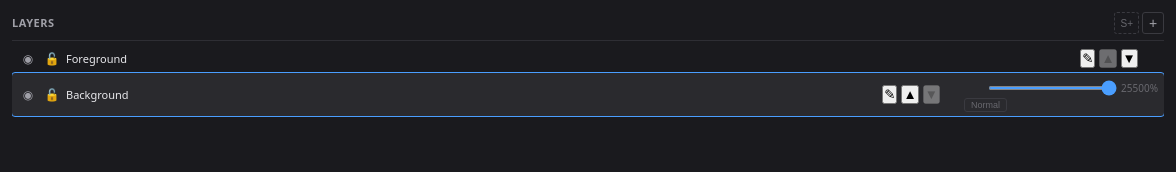
LayerPanel › rename › rename button (✎) opens rename input
Click the button with test id "layer-rename-btn-L1": (890, 94) [882,85,898,104]
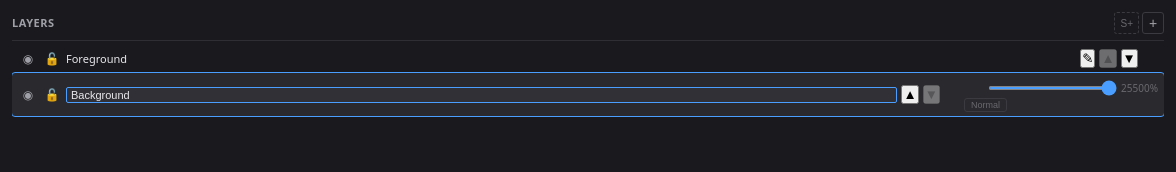
Expected: the field showing "Background" is shown, [66,86,898,102]
